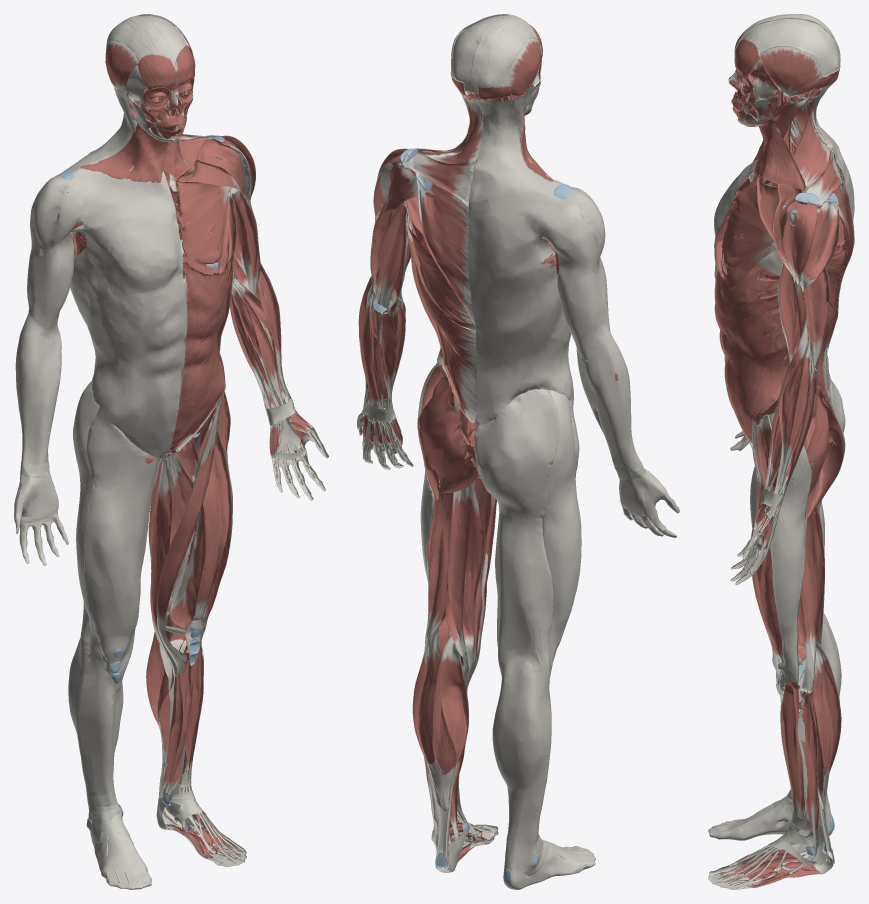
The model's file is muscles.glb.
3 renders of one model, left to right at view 1: azimuth 30°, elevation 25°; view 2: azimuth 150°, elevation 25°; view 3: azimuth 270°, elevation 25°, orthographic. The views are drawn at different scales.
Visible parts, largest first — view 1: 1324, 848, 512, 2060, 810, 103, 2715, 568, 2297, 2324, 312, 1107 (+29 smaller); view 2: 1324, 848, 512, 2830, 1107, 1433, 103, 589, 568, 1019, 1698, 312 (+22 smaller); view 3: 810, 1106, 2715, 717, 1532, 1019, 512, 3015, 1369, 2417, 324, 58 (+47 smaller).
Boxes of the visible parts, x1,y1,x2,y2 form: 1324: (70, 239, 184, 457); 848: (73, 391, 165, 658); 512: (68, 638, 151, 889); 2060: (78, 178, 182, 294); 810: (172, 257, 232, 443); 103: (15, 315, 61, 464); 2715: (176, 181, 237, 274); 568: (30, 169, 113, 257); 2297: (185, 414, 231, 665); 2324: (156, 393, 223, 675); 312: (27, 232, 74, 329); 1107: (73, 380, 106, 668); 1324: (467, 207, 573, 426); 848: (474, 389, 581, 677); 512: (492, 666, 595, 889); 2830: (468, 86, 566, 216); 1107: (542, 390, 581, 677); 1433: (405, 210, 476, 422); 103: (575, 330, 641, 468); 589: (415, 172, 475, 325); 568: (521, 173, 605, 274); 1019: (417, 387, 478, 500); 1698: (432, 634, 468, 774); 312: (555, 251, 609, 347); 810: (715, 265, 789, 441); 1106: (768, 412, 812, 688); 2715: (714, 180, 774, 277); 717: (738, 18, 840, 78); 1532: (800, 483, 824, 693); 1019: (804, 392, 844, 518); 512: (708, 618, 841, 840); 3015: (759, 46, 821, 96); 1369: (798, 643, 841, 775); 2417: (738, 112, 805, 190); 324: (773, 314, 808, 493); 58: (783, 200, 817, 283).
Size of the model in its own units: 0.6707 by 1.7 by 0.2685.
